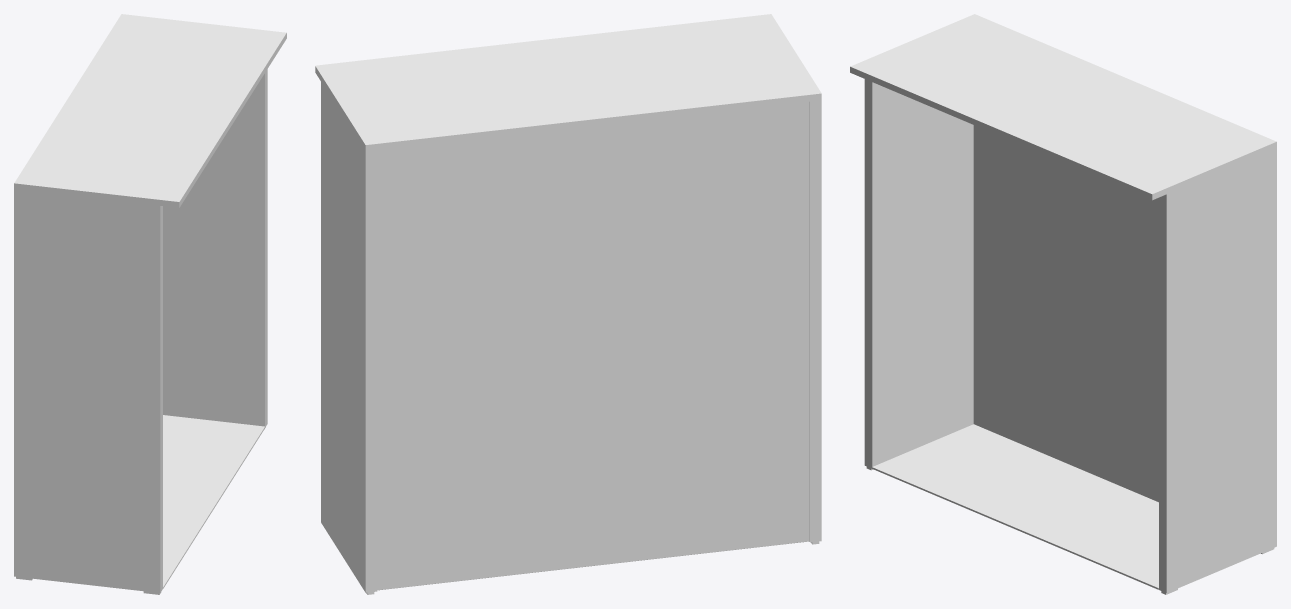
Rendered from tvtable_0101_body.glb.
The picture shows the model from 3 angles, left to right: view 1: azimuth 30°, elevation 25°; view 2: azimuth 150°, elevation 25°; view 3: azimuth 270°, elevation 25°; orthographic projection. The views are drawn at different scales.
Parts seen in each view (by area): view 1: tvtable_0101_body; view 2: tvtable_0101_body; view 3: tvtable_0101_body.
Boxes of the visible parts, x1,y1,x2,y2 form: tvtable_0101_body: (14, 14, 286, 594); tvtable_0101_body: (315, 14, 821, 594); tvtable_0101_body: (850, 14, 1276, 594).
Size of the model in its own units: 0.7989 by 0.8424 by 0.7989.
1 material, 1 textured.
